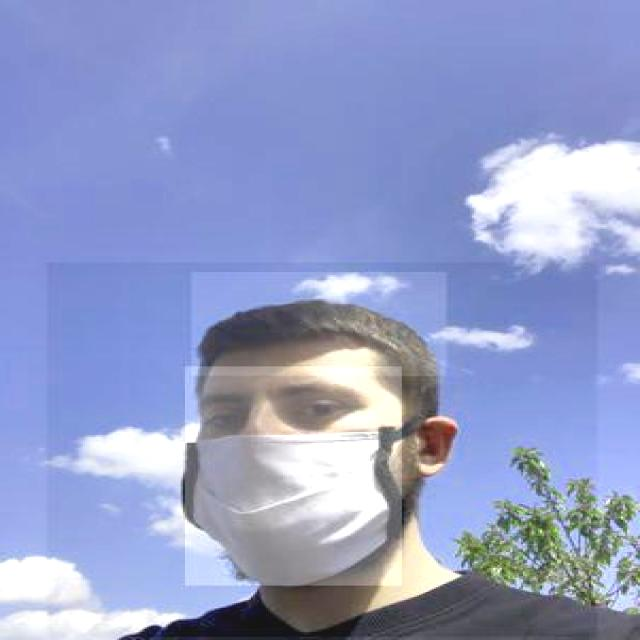face_mask: (183, 367, 402, 588)
head_nohelmet: (192, 272, 446, 376)
person: (45, 262, 598, 638)
